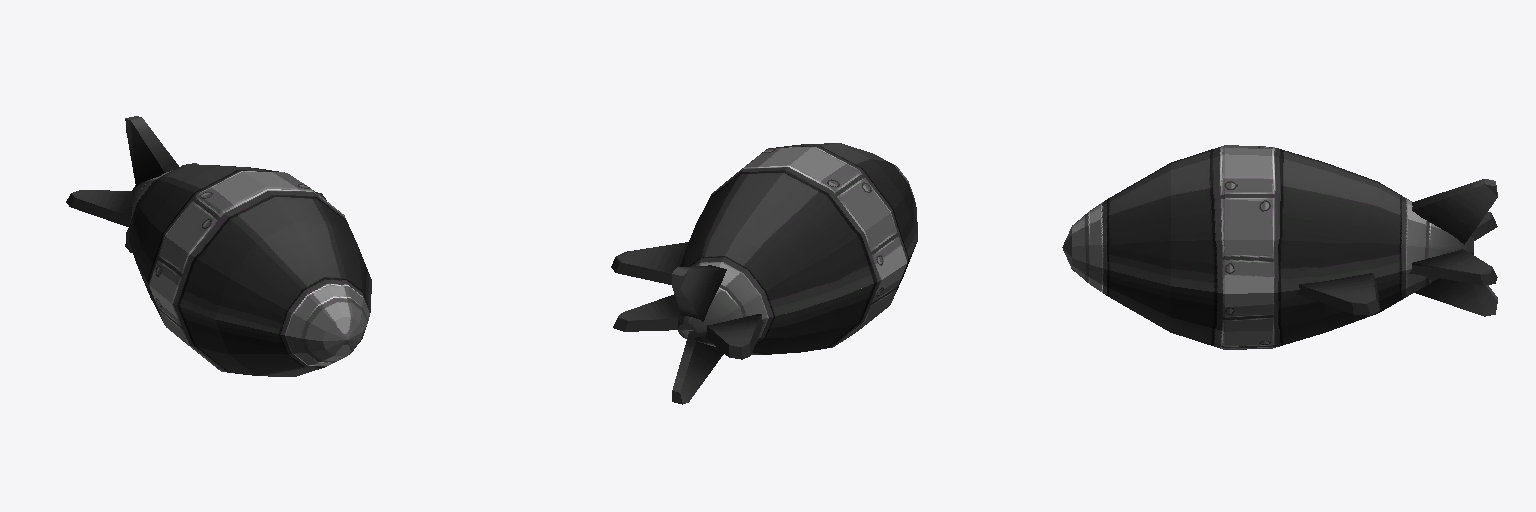
3 renders of one model, left to right at view 1: azimuth 30°, elevation 25°; view 2: azimuth 150°, elevation 25°; view 3: azimuth 270°, elevation 25°, orthographic.
Visible parts, largest first — view 1: Body_Body.002; view 2: Body_Body.002; view 3: Body_Body.002.
Part boxes in pixels (x1,y1,x2,y2): Body_Body.002: (66,116,371,376); Body_Body.002: (611,143,917,404); Body_Body.002: (1062,145,1497,349).
Bounding box in the file's own units: 47.09 × 37.54 × 79.45.
1 materials, 1 textured.